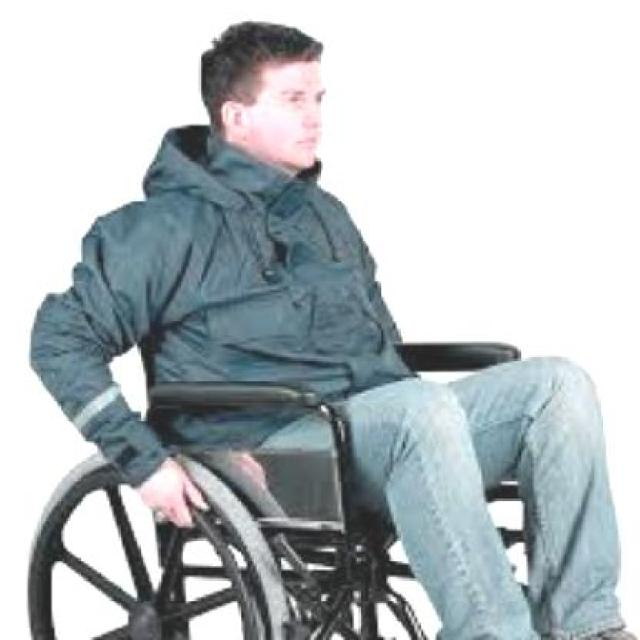wheelchairs: (12, 328, 553, 640)
